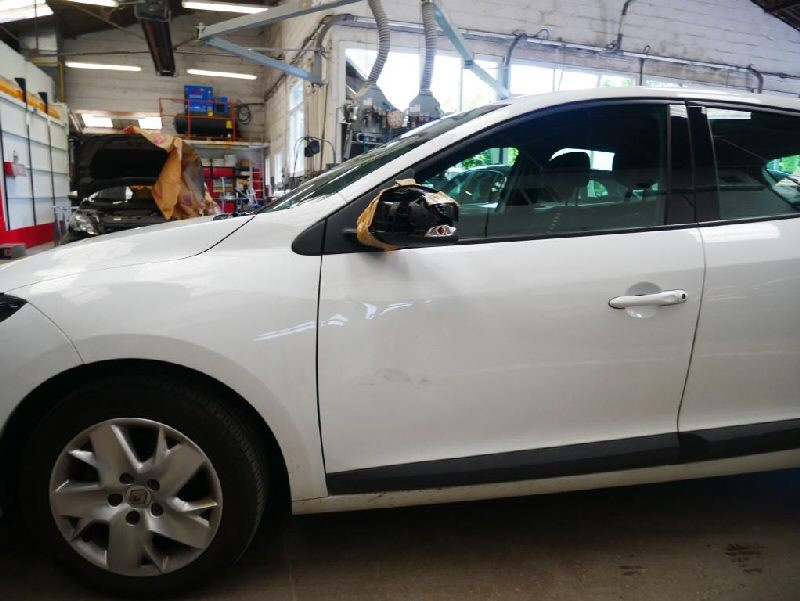front door: (280, 49, 711, 524)
